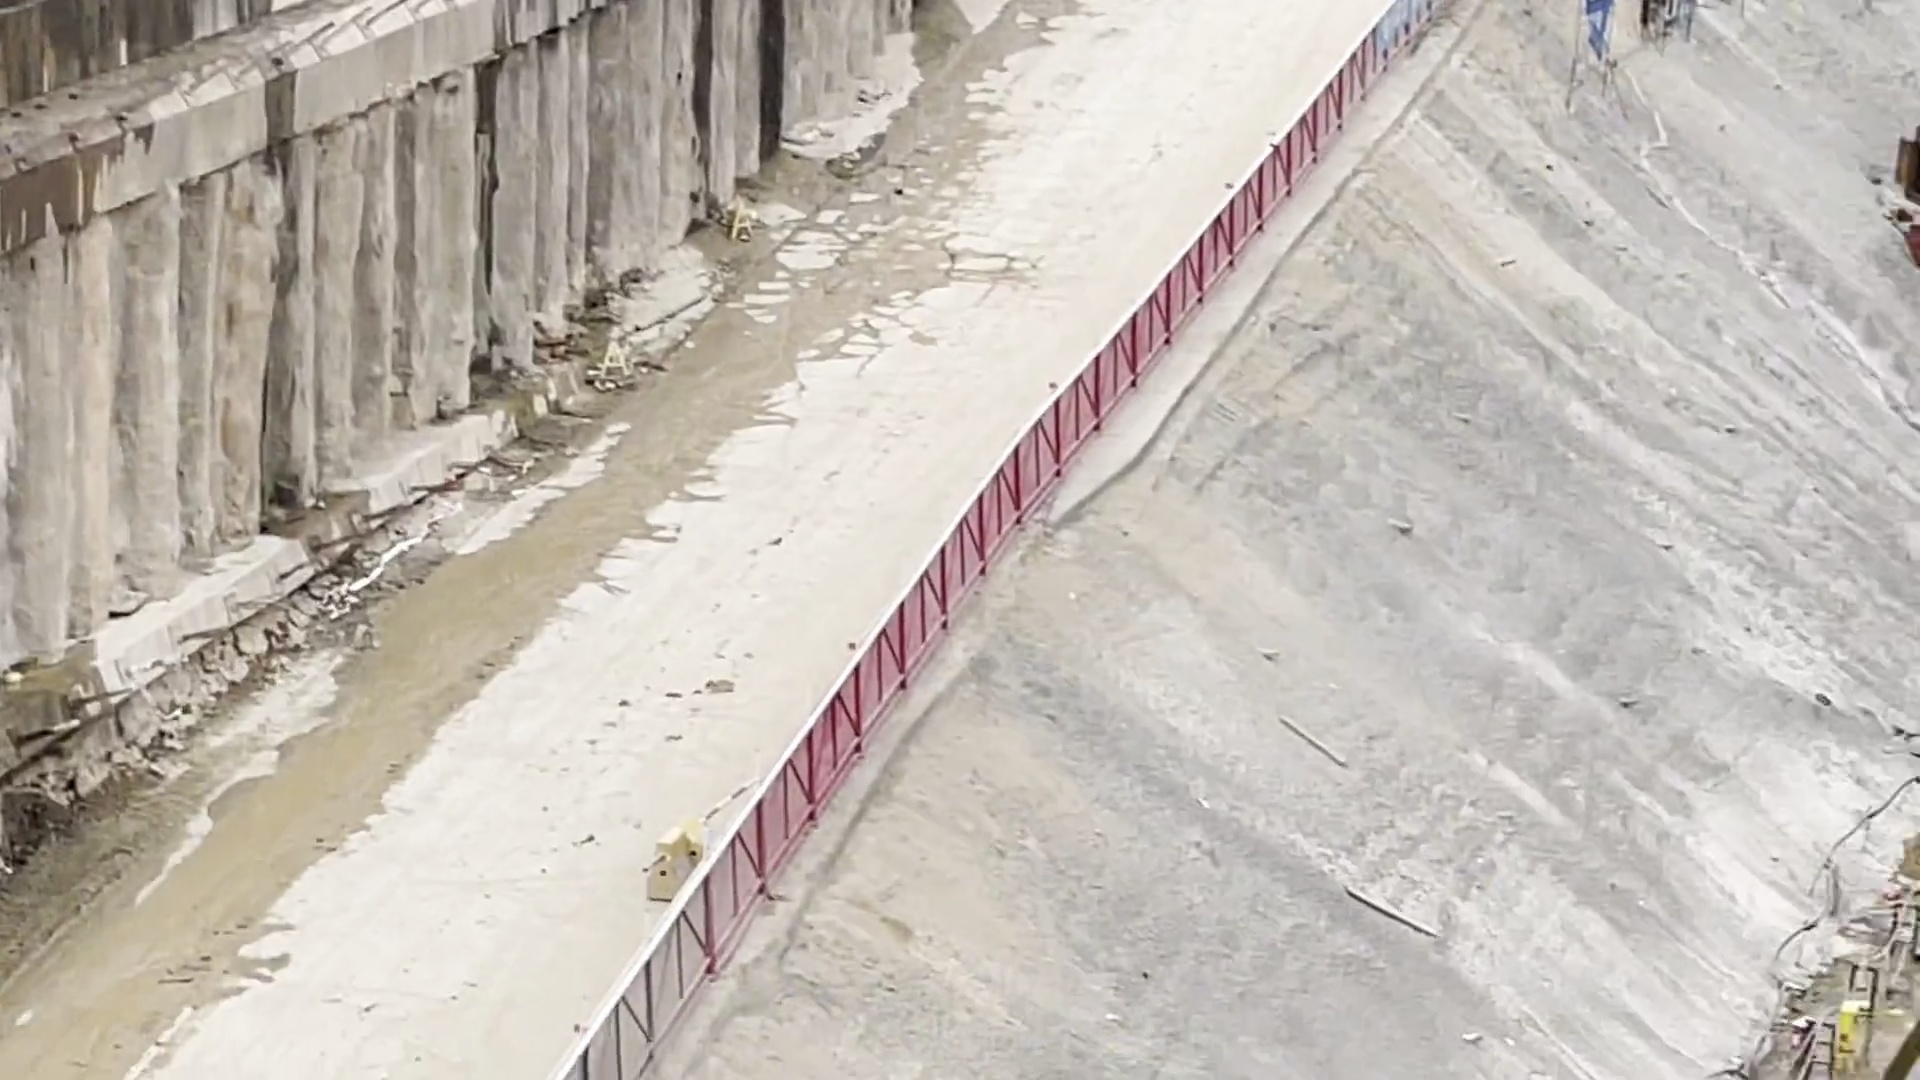fence: (560, 1, 1431, 1073)
slogan: (1377, 1, 1419, 61)
